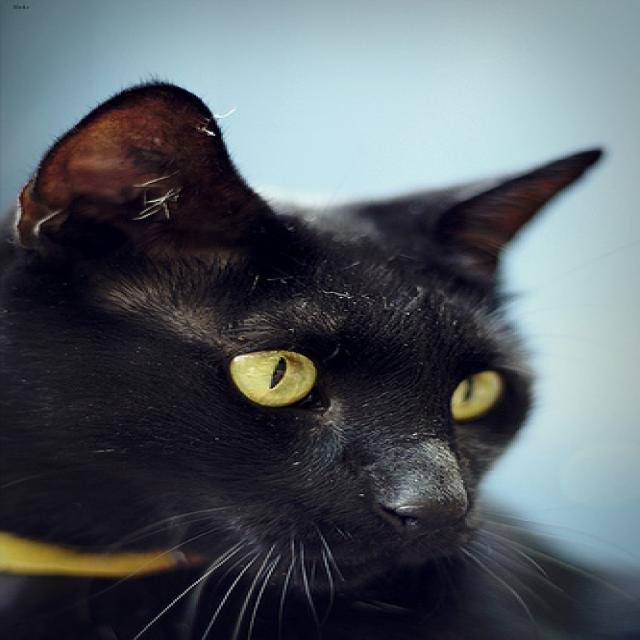Bombay: (0, 75, 640, 602)
